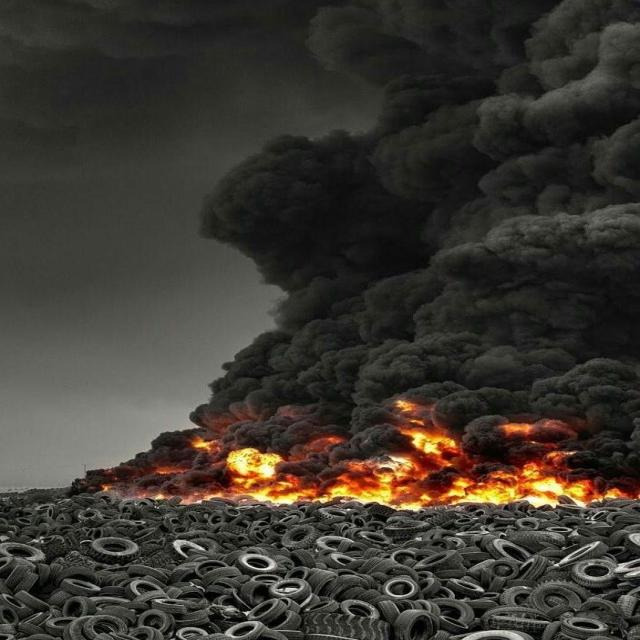fire: (253, 485, 625, 508), (227, 447, 282, 501), (372, 454, 413, 484)
